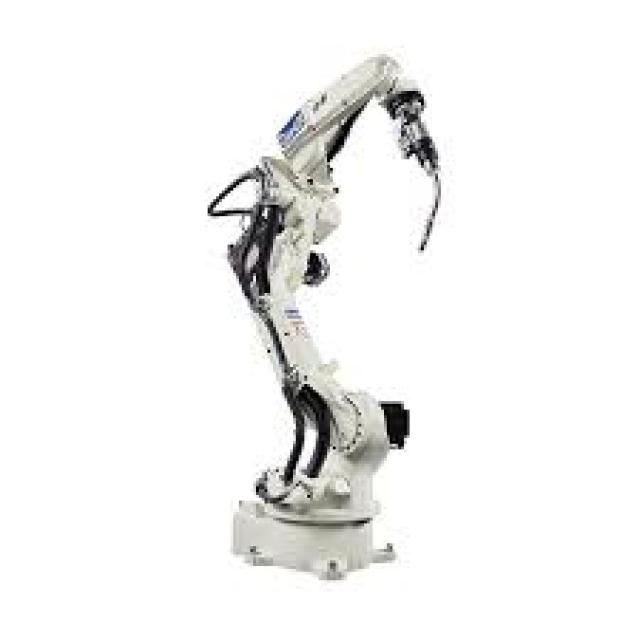Robotic-arm: (192, 38, 462, 584)
